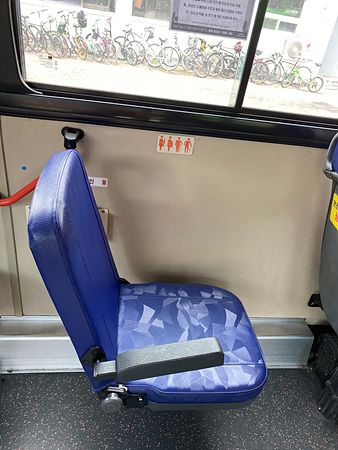seat: (28, 145, 266, 409)
